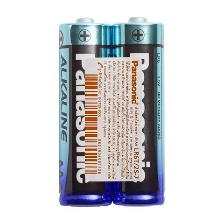battery: (105, 12, 168, 208), (55, 14, 115, 209)
